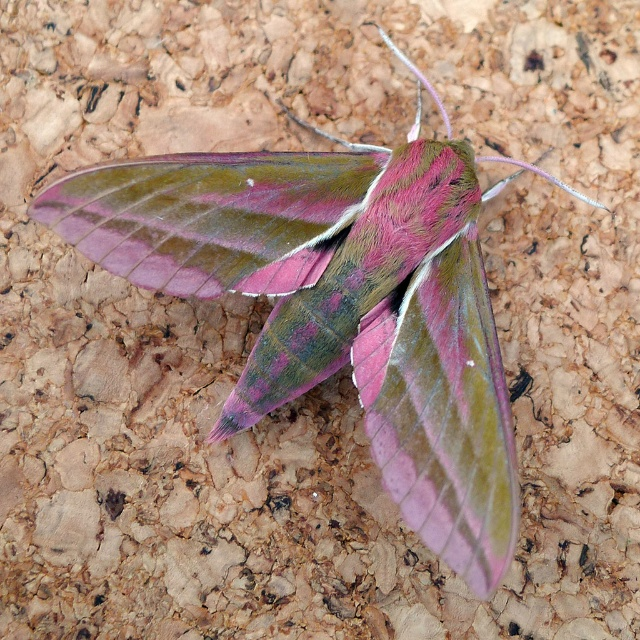Butterfly: (82, 78, 570, 606)
